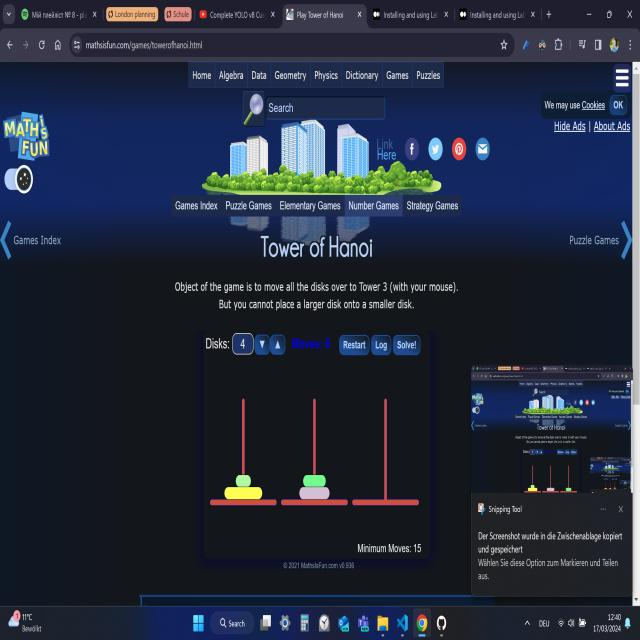disk1: (236, 475, 250, 487)
disk2: (303, 475, 326, 487)
disk3: (299, 487, 330, 500)
disk4: (225, 488, 262, 500)
